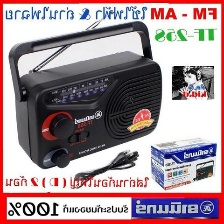book: (146, 133, 219, 193)
